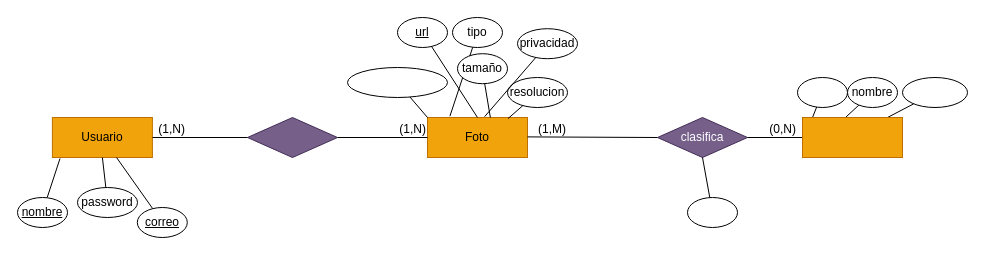
This 985x255 diagram has some shape labels left out. The centre of each missing label's shape, as x and y in pixels:
Etiqueta: the point at 852,137
nombre_archivo: the point at 397,82
numero: the point at 822,92
sube: the point at 292,137
sugerente: the point at 712,212
total_fotos: the point at 935,92
